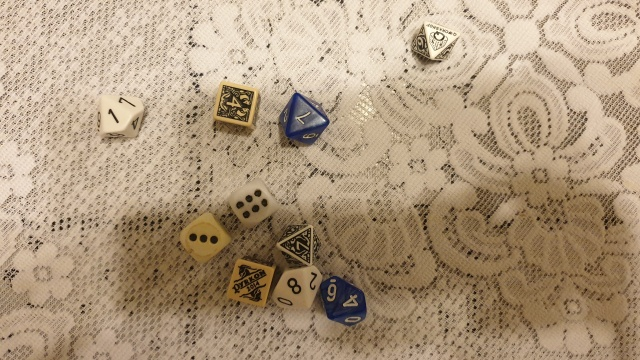d10-1: (91, 89, 146, 144)
d10-4: (317, 272, 373, 330)
d10-7: (272, 88, 332, 151)
d10-8: (269, 264, 322, 314)
d6-3: (176, 209, 230, 267)
d6-6: (226, 175, 277, 231)
d6p-1: (226, 251, 273, 310)
d6p-4: (208, 79, 262, 134)
d8p-7: (273, 220, 322, 268)
d8p-8: (405, 12, 462, 66)
